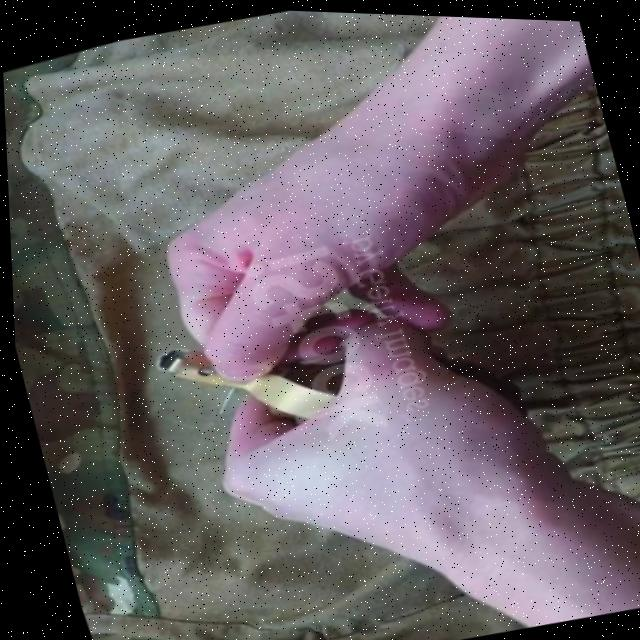grenade: (141, 255, 515, 497)
